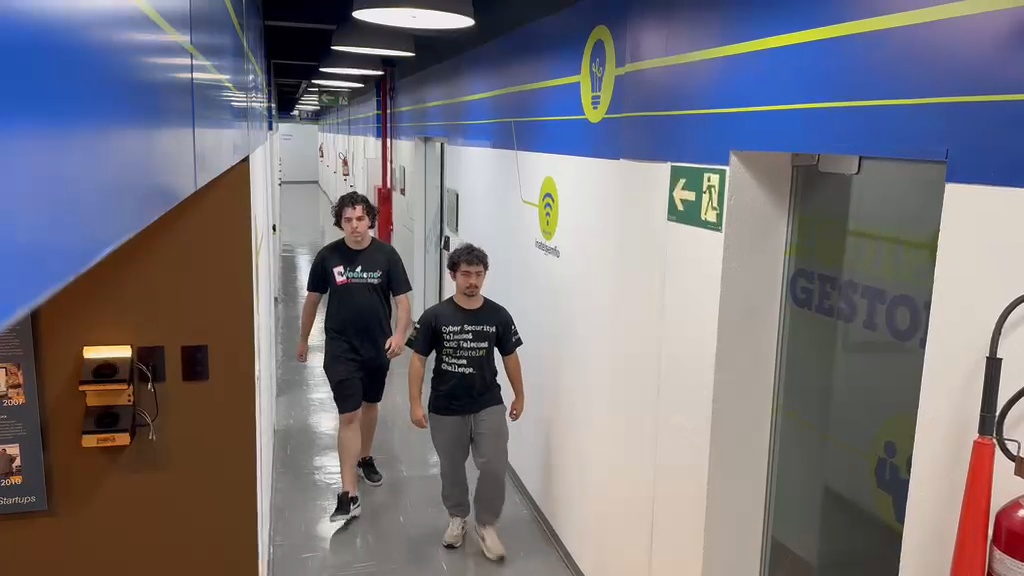person: (295, 190, 415, 519), (404, 242, 526, 563)
